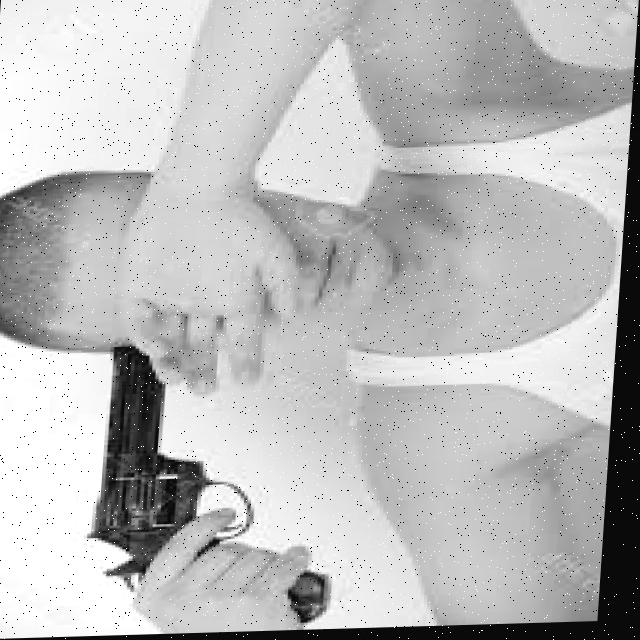pistol: (93, 343, 270, 598)
